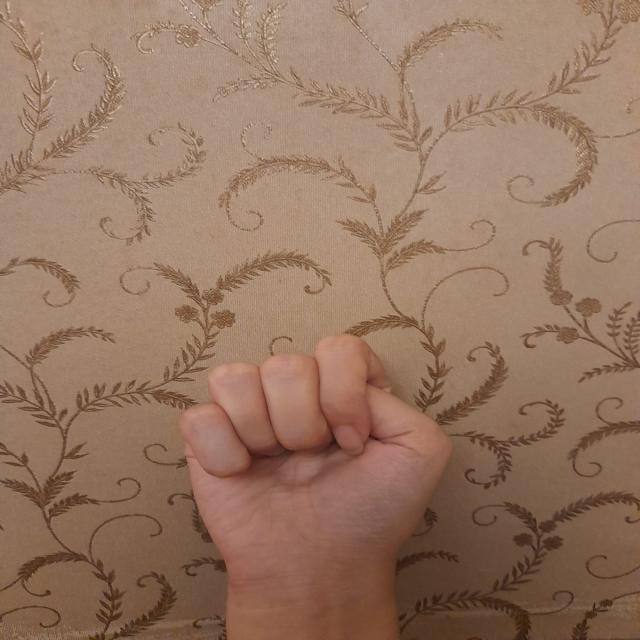Closed Hand: (175, 331, 454, 570)
